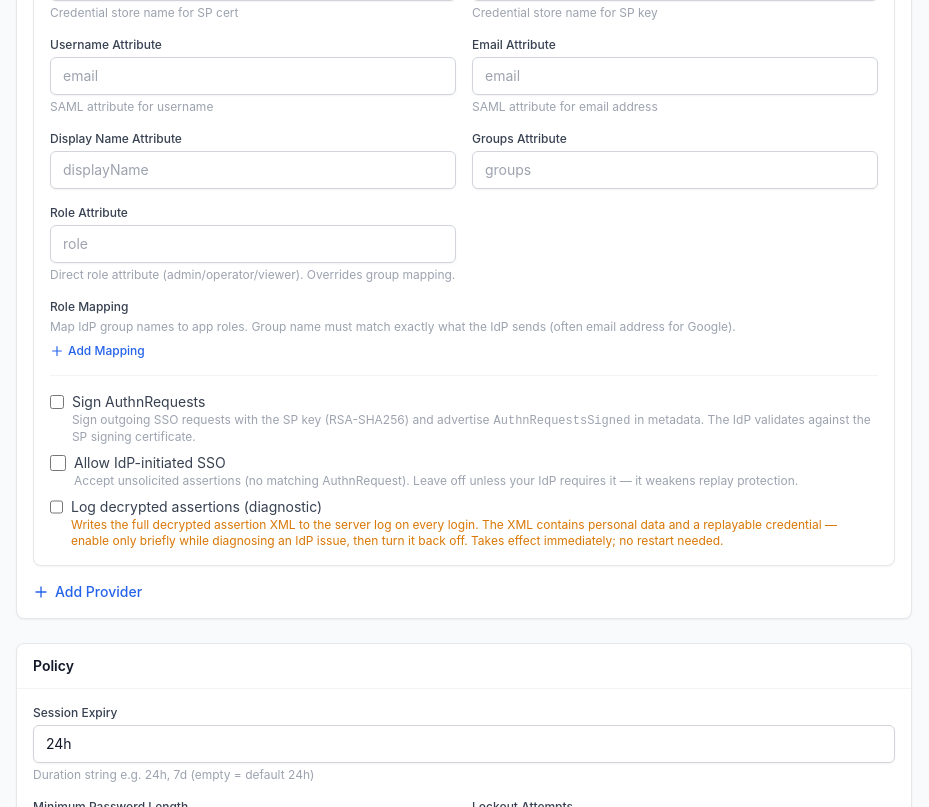
Scenario: AdminAuthPage › does not show a restart banner after saving when the backend applies changes live
The width and height of the screenshot is (929, 807).
(page scrolled)
Click the checkbox labelled "Sign AuthnRequests".
click(57, 402)  # box [50,394,64,410]
(page scrolled)
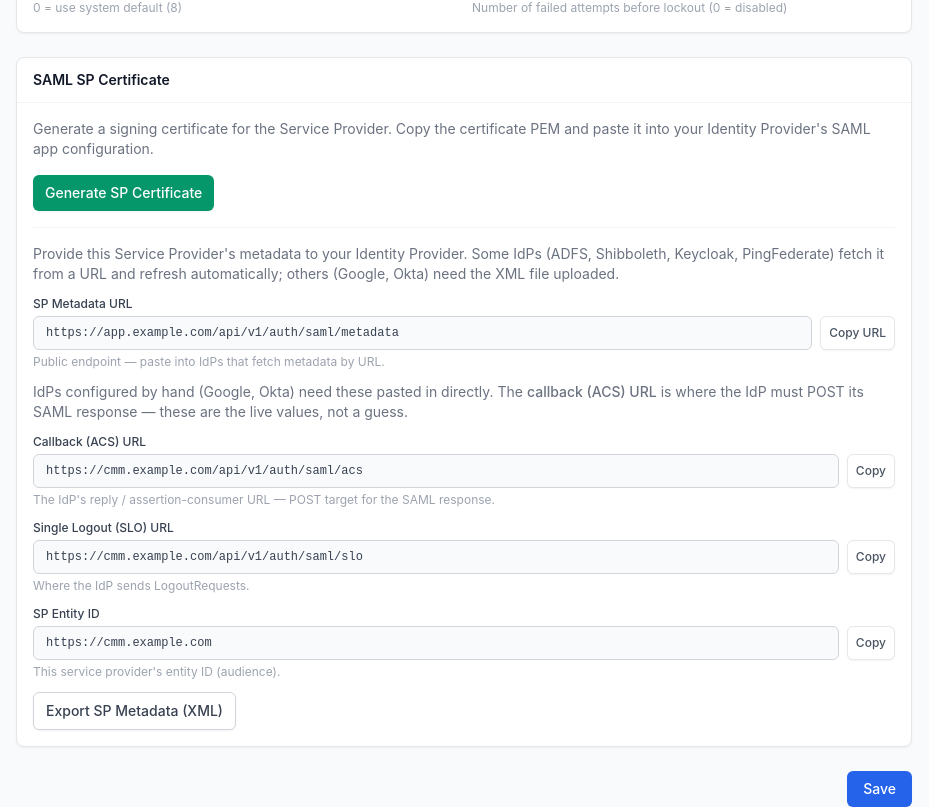
Click the button "Save".
click(880, 789)  # box [847,771,912,806]
(page scrolled)
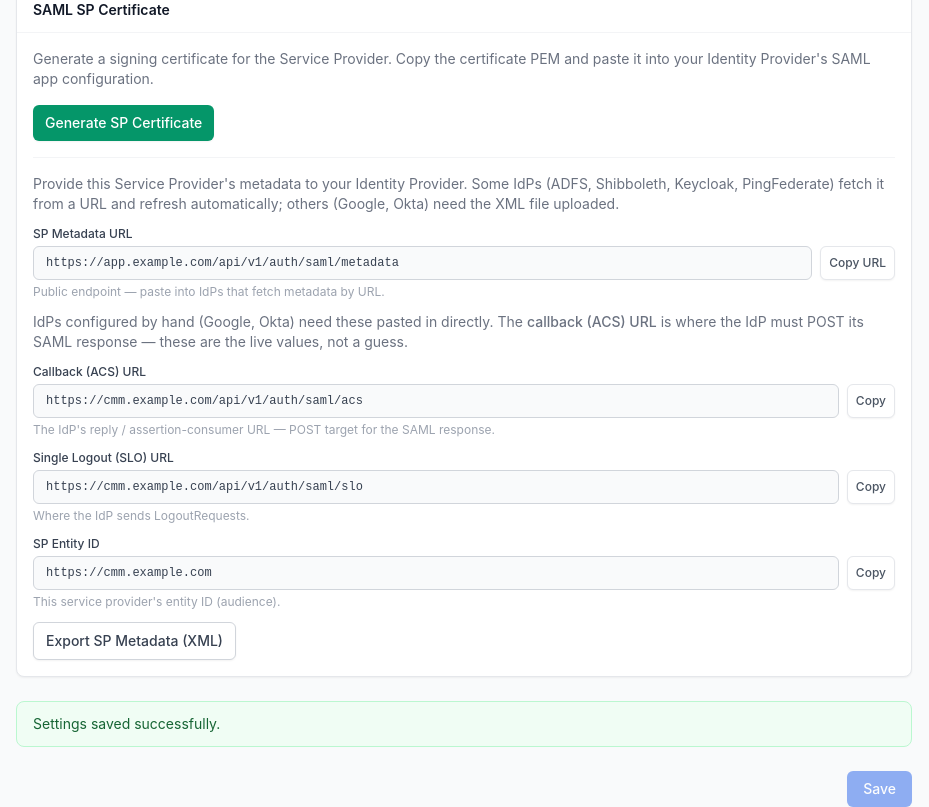
Result: the text "Settings saved successfully." is shown at [16,701,912,747]
